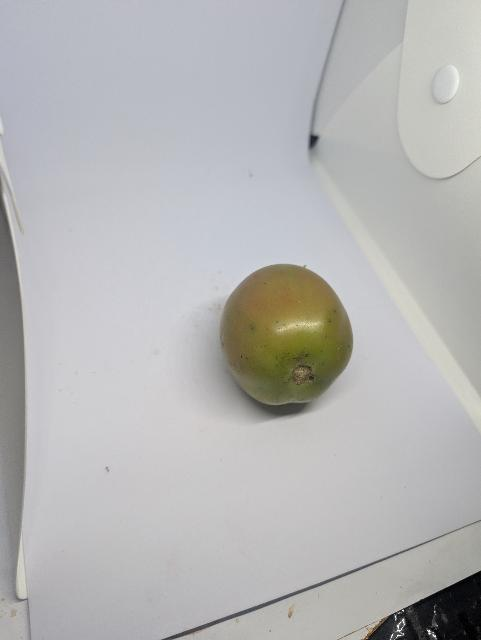breaker: (216, 260, 361, 415)
